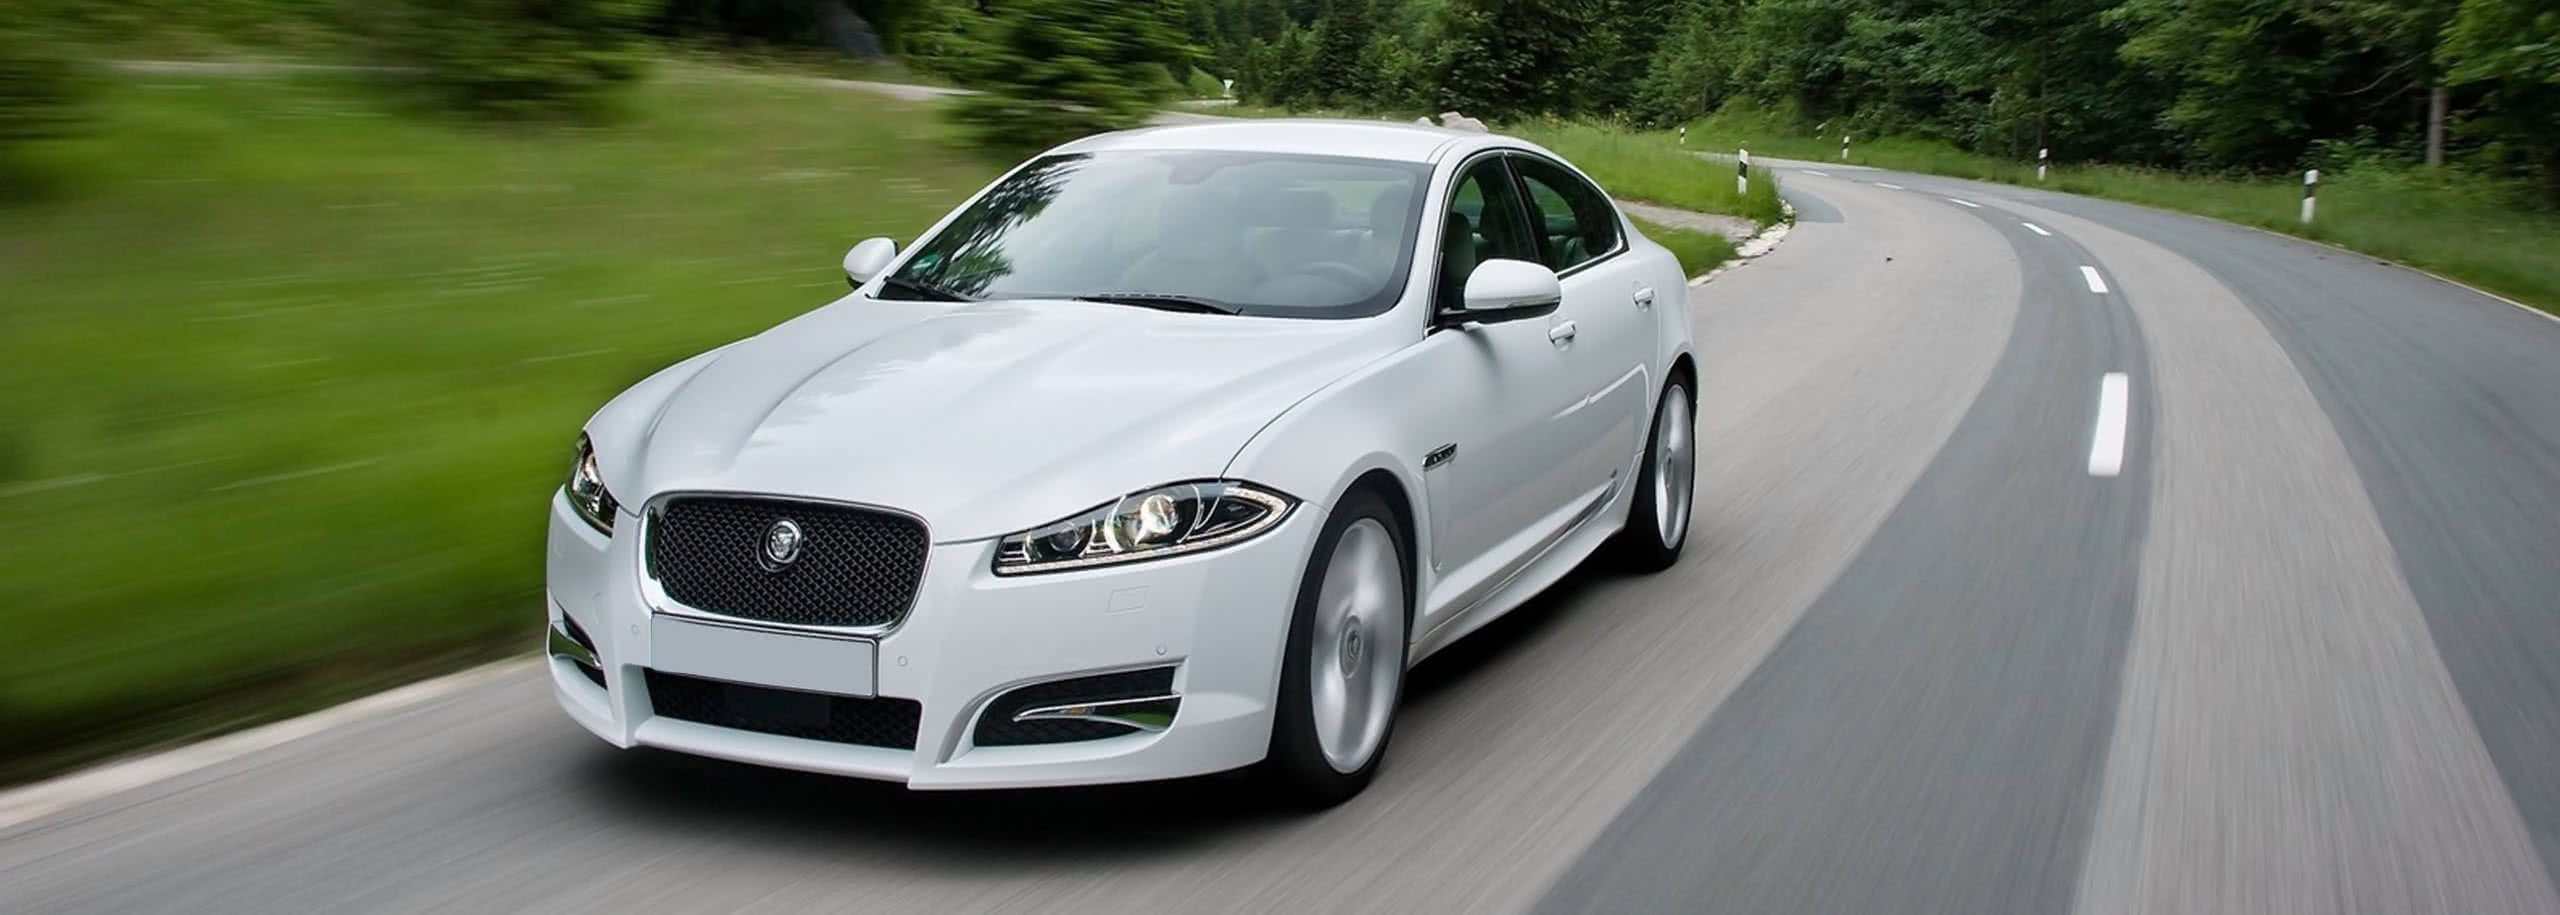car: (557, 118, 1722, 807)
